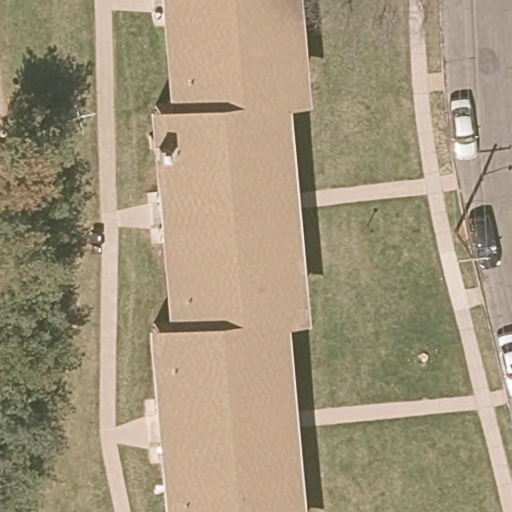DT: (455, 232, 491, 266)
